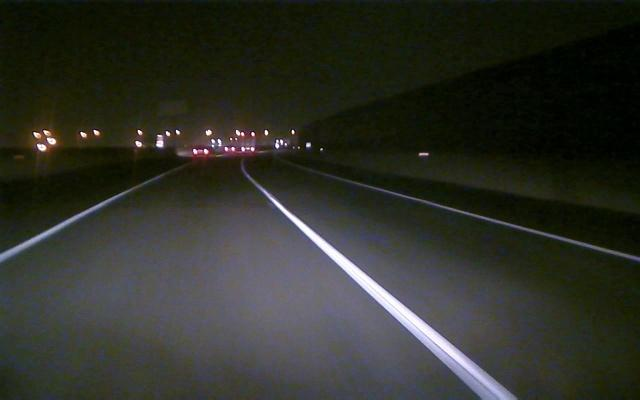lane: (253, 182, 516, 396), (350, 181, 640, 263), (1, 185, 139, 261)
